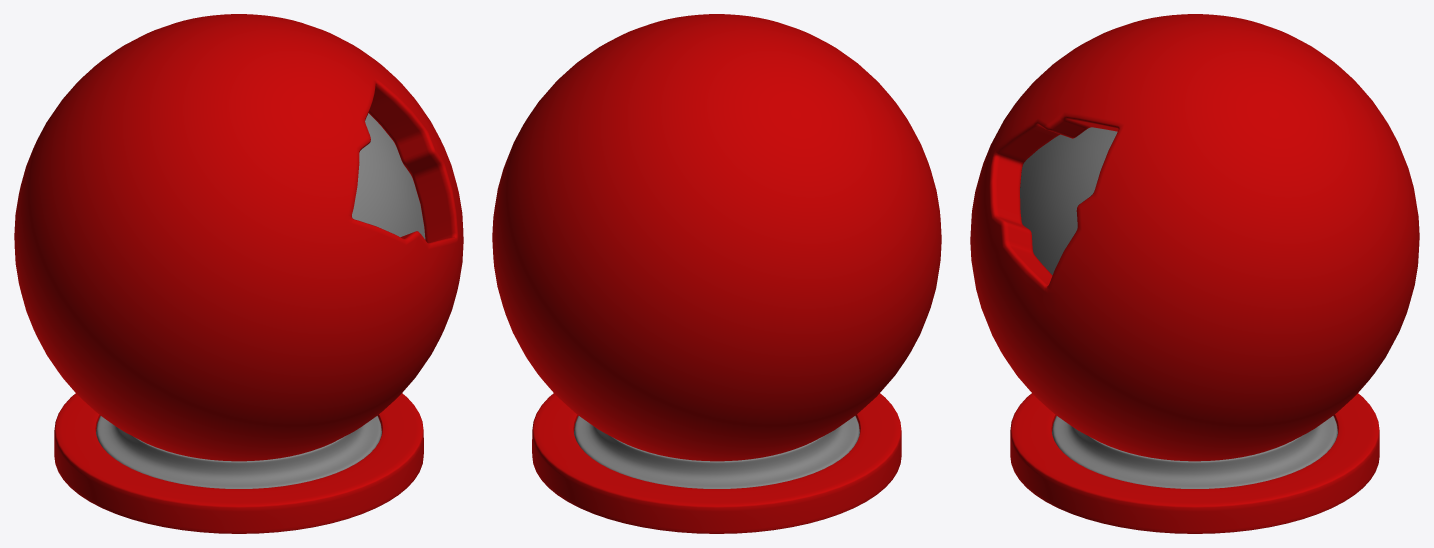
The model's file is unity_sphere.FBX.
3 views of the same model, side by side, from view 1: azimuth 30°, elevation 25°; view 2: azimuth 150°, elevation 25°; view 3: azimuth 270°, elevation 25° (orthographic).
Visible parts, largest first — view 1: base, decals; view 2: base, decals; view 3: base, decals.
Boxes of the visible parts, box(x1,y1,x2,y2) form: base: box(14, 14, 463, 533); decals: box(96, 113, 425, 488); base: box(492, 14, 941, 533); decals: box(574, 416, 859, 488); base: box(970, 14, 1419, 533); decals: box(1020, 127, 1337, 488).
Size of the model in its own units: 43.53 by 45.04 by 43.53.
